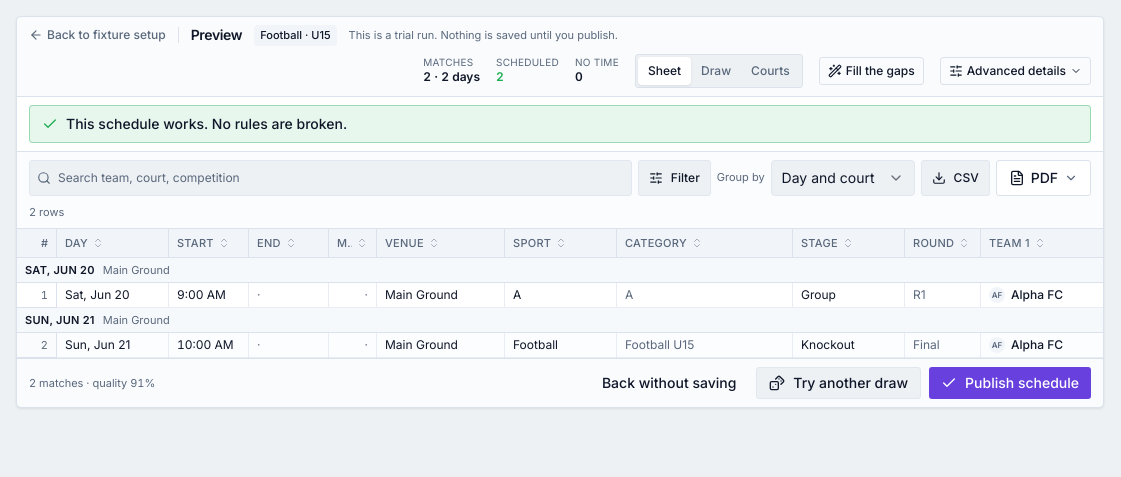
Test: DryRunPreviewPage › runs the pure simulate, leads with the verdict and fills the spreadsheet
Expected: the heading "Preview" is shown, x1=191 y1=25 x2=242 y2=45
Expected: the text "This is a trial run. Nothing is saved until you publish." is shown, x1=349 y1=27 x2=618 y2=44
Note: The structure lives one click away, on the Draw view.
Click the radio button with test id "preview-view-draw" at coordinates (716, 70), box x1=691 y1=56 x2=741 y2=84
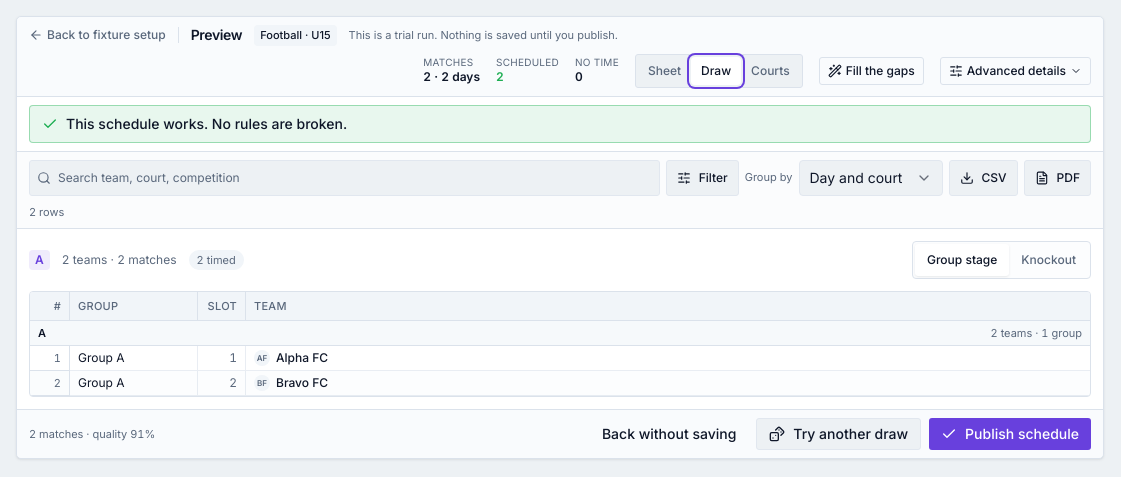
Expected: the element with test id "competition-panel" is shown, x1=29 y1=241 x2=1091 y2=397
Expected: the element with test id "draw-groups" is shown, x1=29 y1=291 x2=1091 y2=397
Expected: the row with test id "draw-row-football.u15-Group A-1" shows "Alpha FC", x1=276 y1=350 x2=328 y2=365
